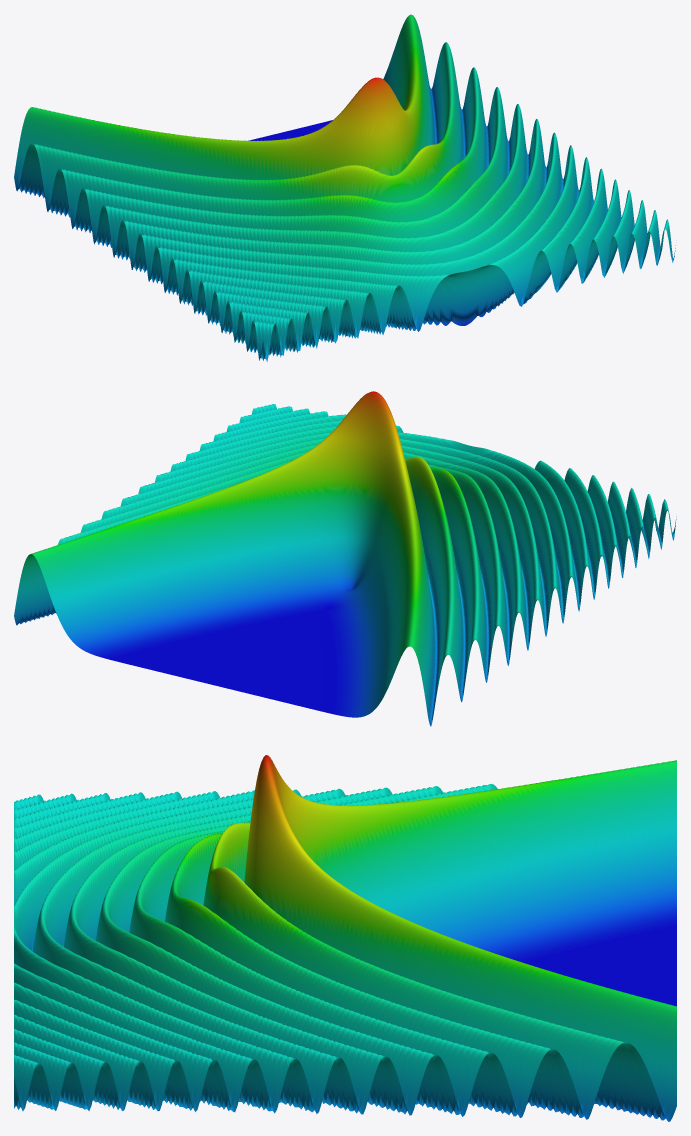
File: swallotail_function.glb
3 renders of one model, top to bottom at view 1: azimuth 30°, elevation 25°; view 2: azimuth 150°, elevation 25°; view 3: azimuth 270°, elevation 25°, orthographic. The views are drawn at different scales.
Parts seen in each view (by area): view 1: Object_2; view 2: Object_2; view 3: Object_2.
Boxes of the visible parts, x1,y1,x2,y2 form: Object_2: (14,14,675,361); Object_2: (14,391,676,726); Object_2: (14,755,676,1121).
Size of the model in its own units: 48 by 20.21 by 50.01.
